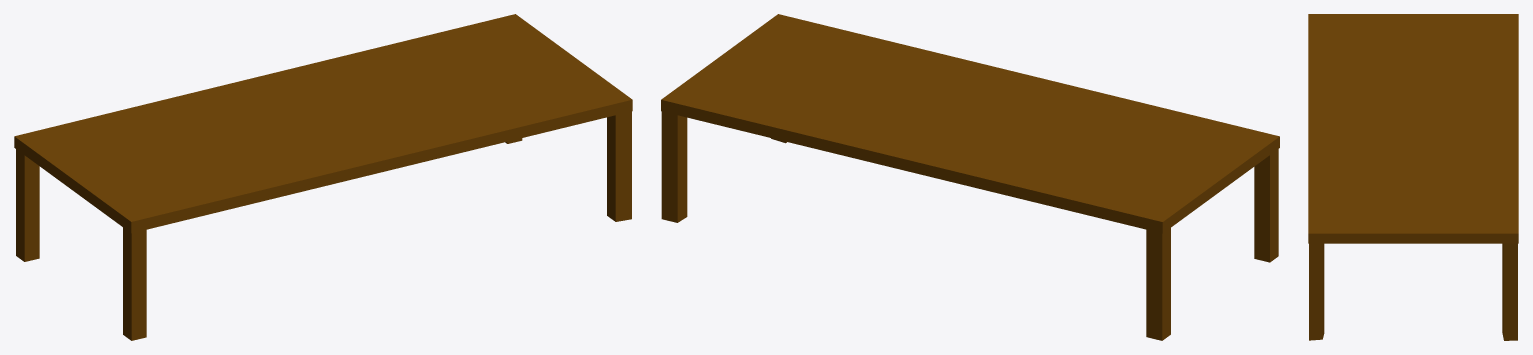
The model's file is table.glb.
3 views of the same model, side by side, from view 1: azimuth 30°, elevation 25°; view 2: azimuth 150°, elevation 25°; view 3: azimuth 270°, elevation 25° (orthographic). The views are drawn at different scales.
Parts seen in each view (by area): view 1: Cube; view 2: Cube; view 3: Cube.
Boxes of the visible parts, bbox=[...] form: Cube: bbox=[14, 14, 632, 340]; Cube: bbox=[661, 14, 1279, 340]; Cube: bbox=[1308, 14, 1518, 340].
Bounding box in the file's own units: 9.76 × 2.24 × 3.95.
